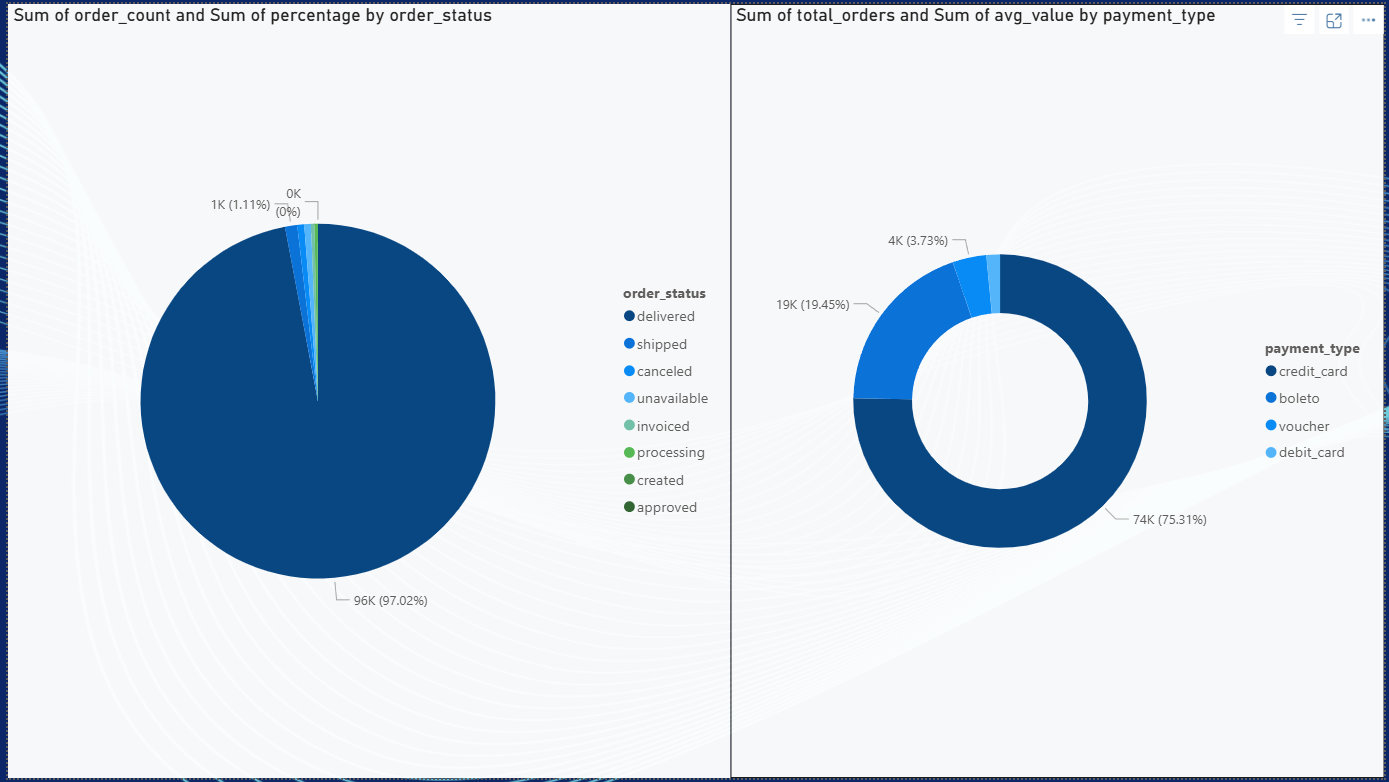

What the dashboard file says about the page in this screenshot:
{"tool":"powerbi","page":{"name":"Orders and Payments","canvas":[1280,720],"ordinal":2},"visuals":[{"type":"pieChart","fields":{"Category":["08_order_status.order_status"],"Y":["Sum(08_order_status.order_count)"]},"box":[0,0,672,720],"z":0},{"type":"donutChart","fields":{"Category":["04_payment_methods.payment_type"],"Y":["Sum(04_payment_methods.total_orders)"]},"box":[672,0,608,720],"z":1000}]}

Visuals, with their boxes in screenshot pixels (x1, y1, x2, y2), scaled from the page's 1280x720 canvas onto the 1389x782 screenshot:
pieChart - 08_order_status.order_status x Sum(08_order_status.order_count): BBox(0, 0, 729, 781)
donutChart - 04_payment_methods.payment_type x Sum(04_payment_methods.total_orders): BBox(729, 0, 1388, 781)
